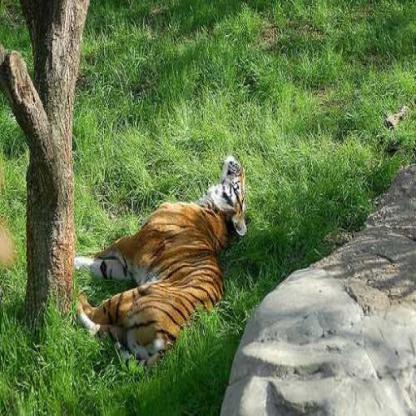Tiger: (76, 151, 258, 373)
